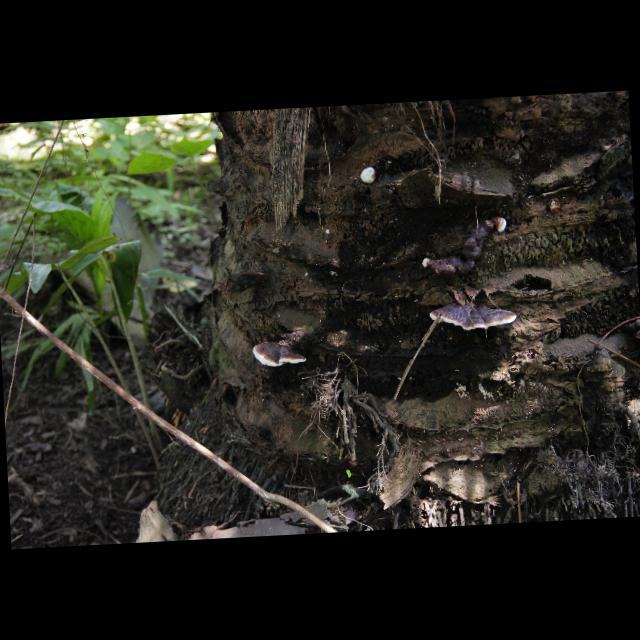ganoderma: (431, 219, 498, 279), (429, 298, 520, 334), (253, 340, 309, 370)
primordium: (361, 168, 378, 186), (496, 216, 509, 235), (422, 258, 433, 270), (326, 230, 332, 236)
